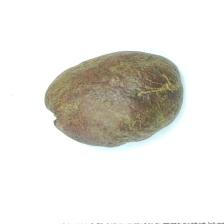NG: (127, 62, 185, 123)
